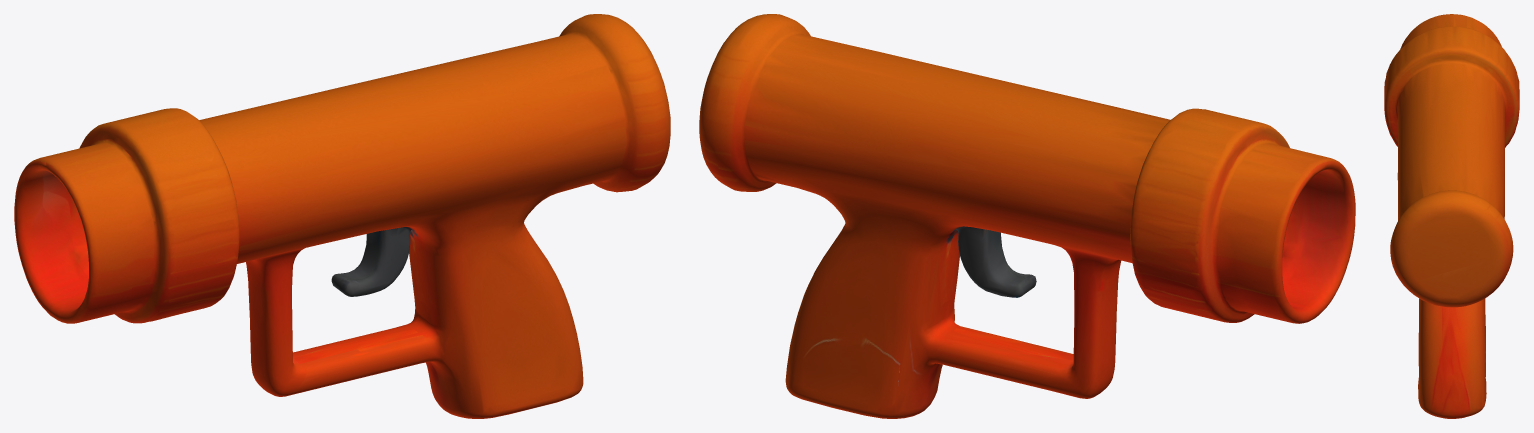
File: gun.glb
3 views of the same model, side by side, from view 1: azimuth 30°, elevation 25°; view 2: azimuth 150°, elevation 25°; view 3: azimuth 270°, elevation 25° (orthographic). The views are drawn at different scales.
Parts seen in each view (by area): view 1: tripo_node_362a6a81-fa5b-4f37-be46-09010dab9fad; view 2: tripo_node_362a6a81-fa5b-4f37-be46-09010dab9fad; view 3: tripo_node_362a6a81-fa5b-4f37-be46-09010dab9fad.
Boxes of the visible parts, x1,y1,x2,y2 form: tripo_node_362a6a81-fa5b-4f37-be46-09010dab9fad: (14,14,670,418); tripo_node_362a6a81-fa5b-4f37-be46-09010dab9fad: (699,14,1355,418); tripo_node_362a6a81-fa5b-4f37-be46-09010dab9fad: (1384,14,1519,418).
Size of the model in its own units: 2.48 by 1.47 by 0.7275.
1 material, 1 textured.
